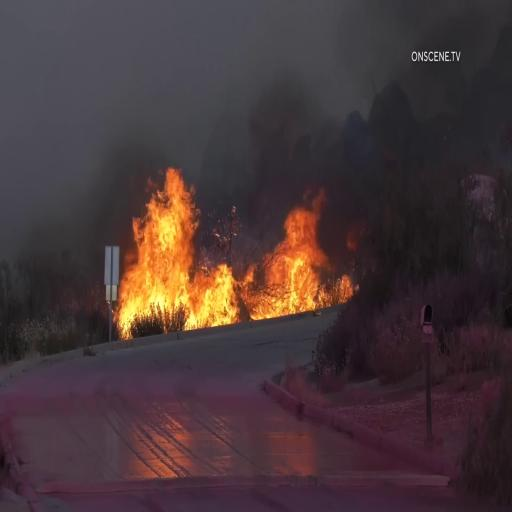fire: (120, 170, 239, 333), (246, 182, 346, 313)
